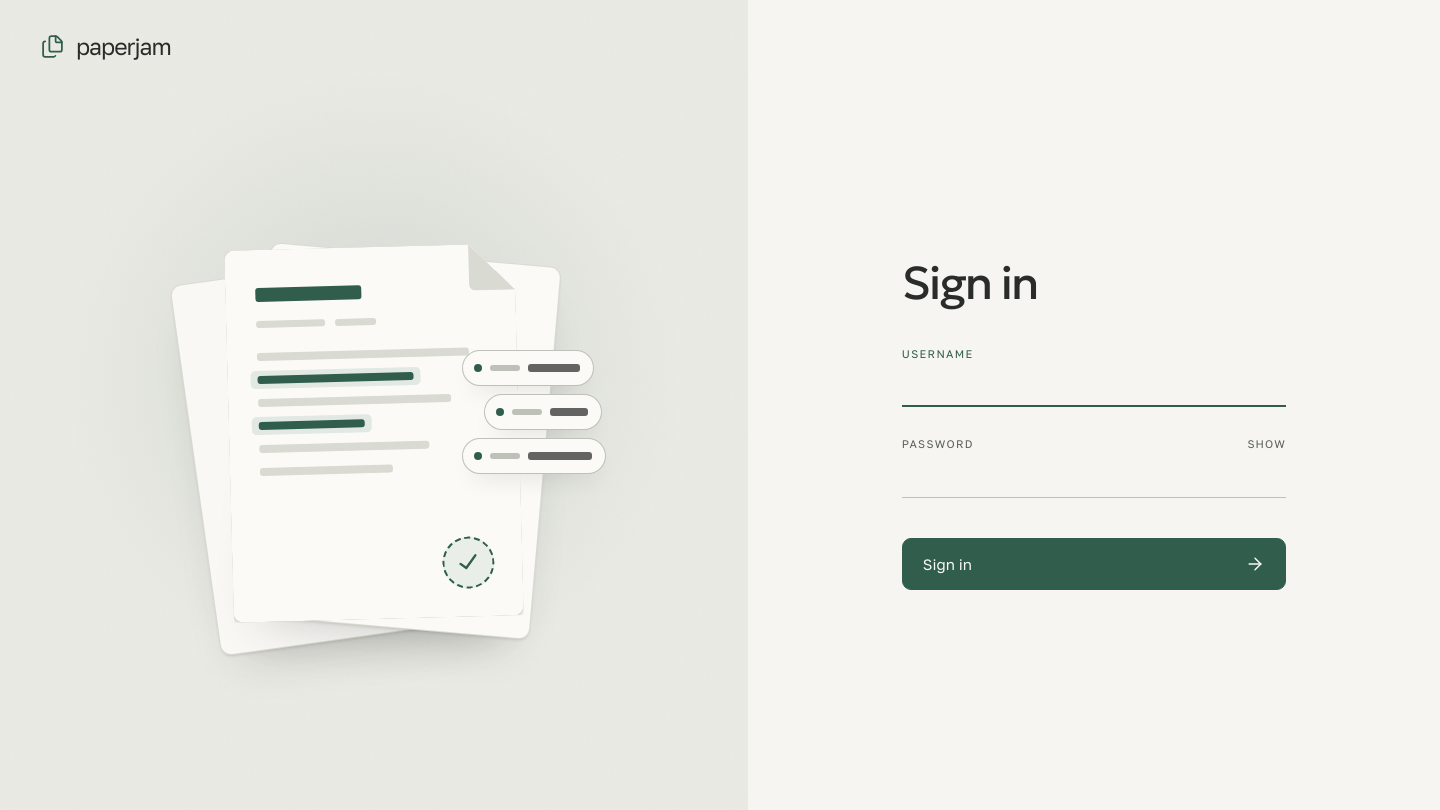
Test case: LoginPage password sign-in › opens the app as usual otherwise, and can show the password
This screenshot has width=1440, height=810.
Later steps or results of the test are not shown.
Click the button "Show" at (1267, 444), box [1242,428,1292,460]
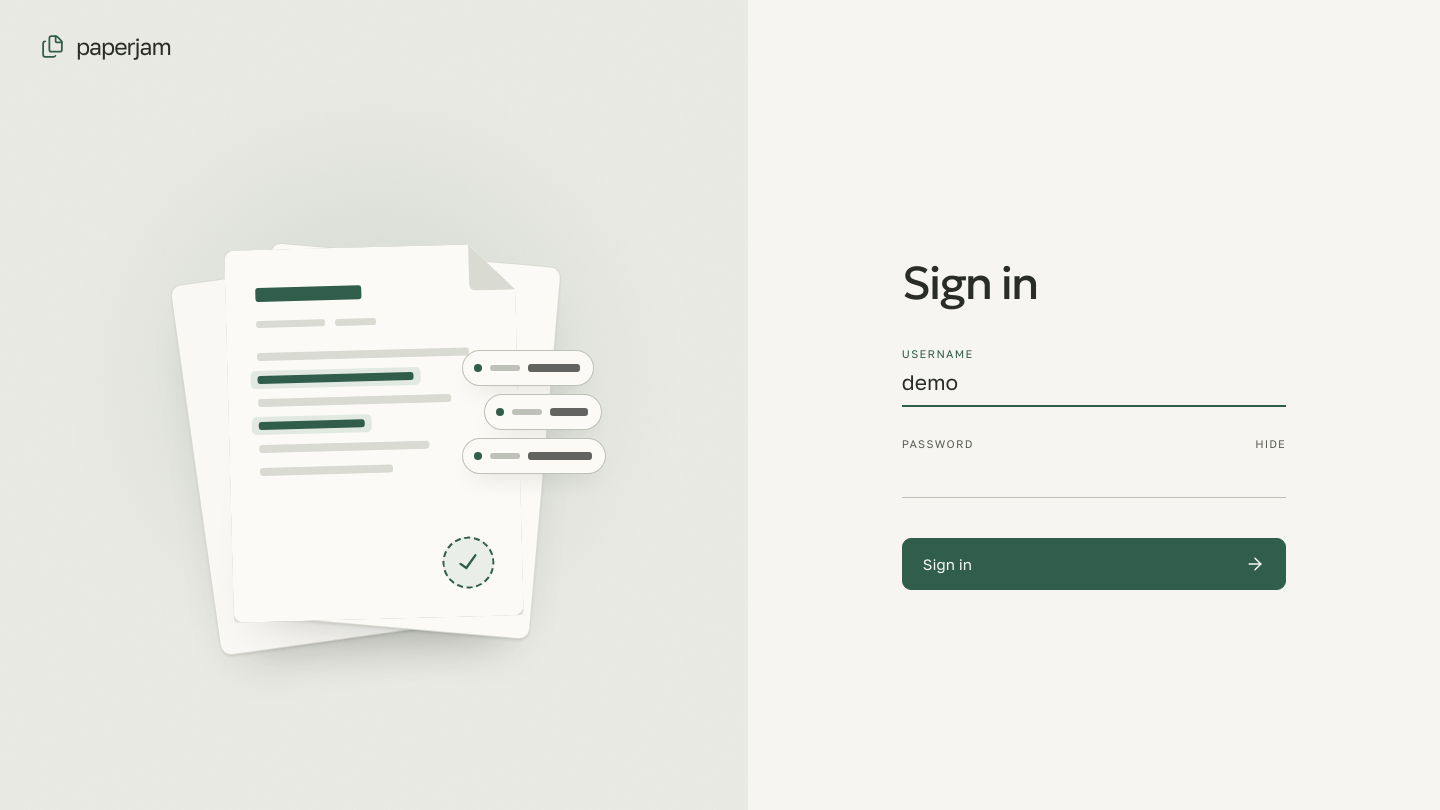
Check: the button "Hide" is pressed, box [1249,428,1292,460]
